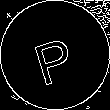P_N: (30, 26, 80, 84)
